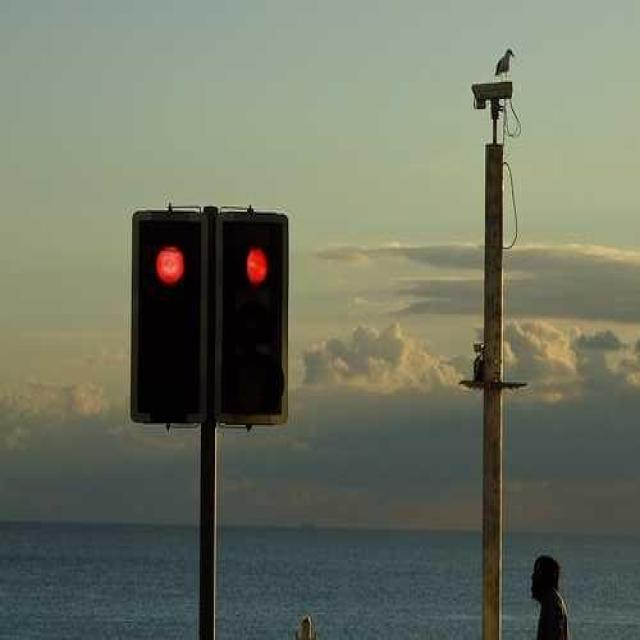Traffic Light -Red-: (132, 212, 203, 416), (214, 213, 284, 415)
